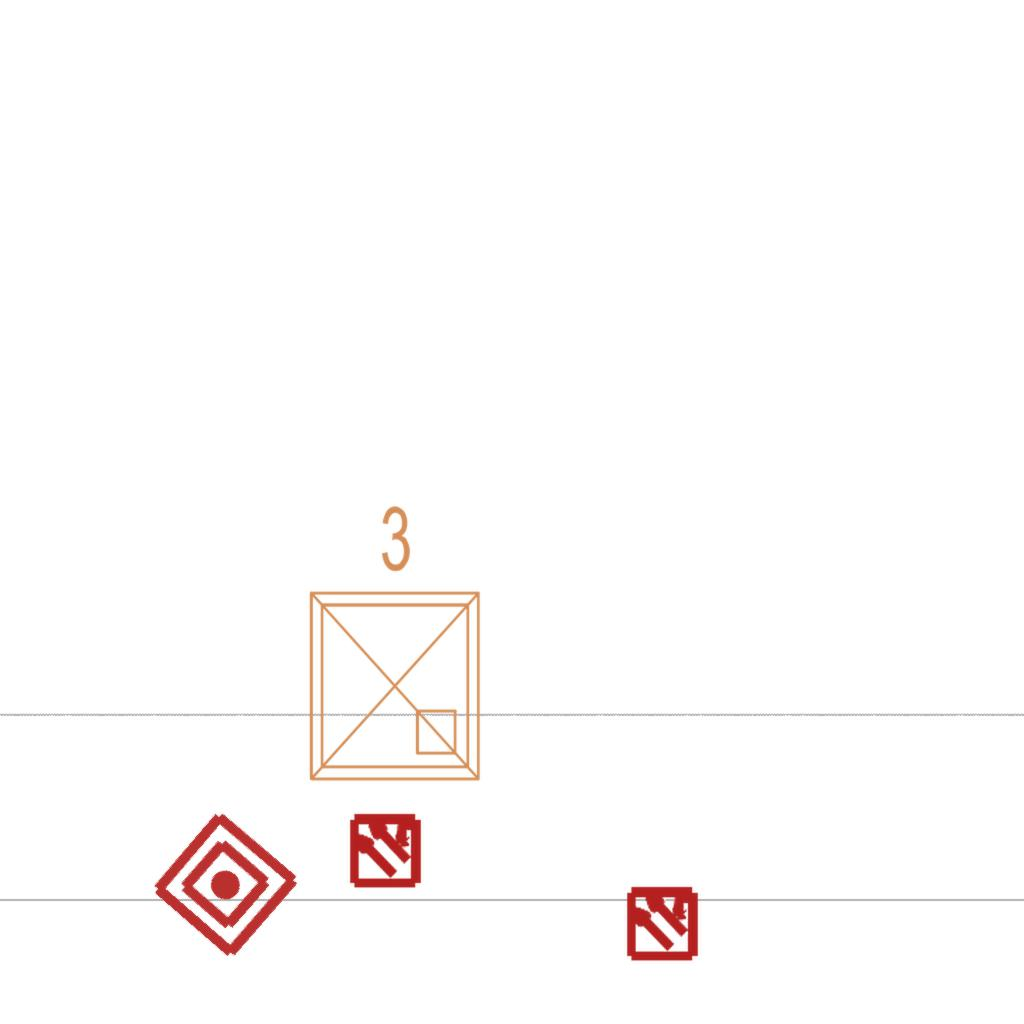Einbaudownlights_LED_Konferenzraeume: (287, 495, 495, 795)
NAM-Nichtautomatischer_Melder: (145, 804, 306, 965)
OT_Multisensormelder_(Kombination_RMO_WMD): (329, 792, 442, 905), (606, 865, 719, 978)
